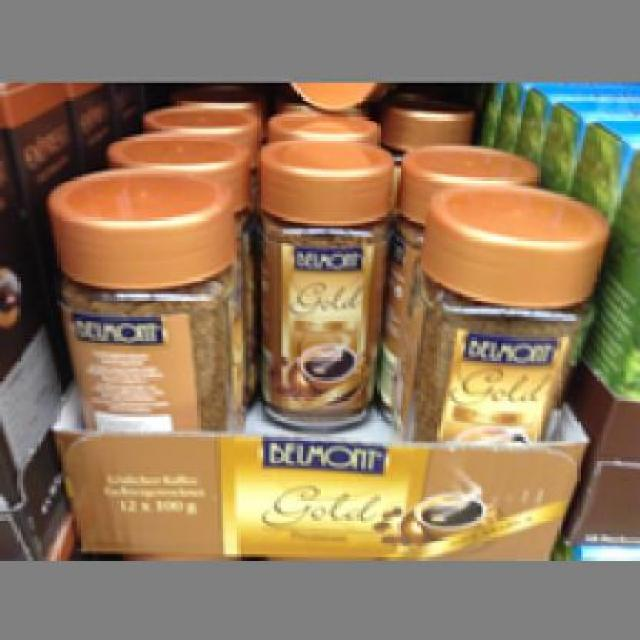Coffee: (388, 177, 606, 440), (43, 162, 246, 428), (255, 133, 394, 430)
